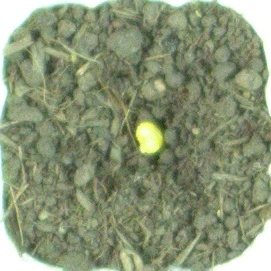pepper seed: (52, 43, 216, 199)
